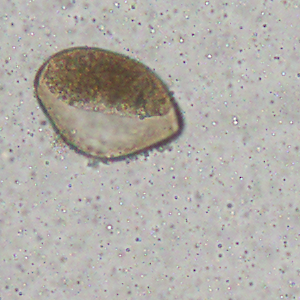Fasciola_hepatica_egg: (31, 44, 187, 162)
